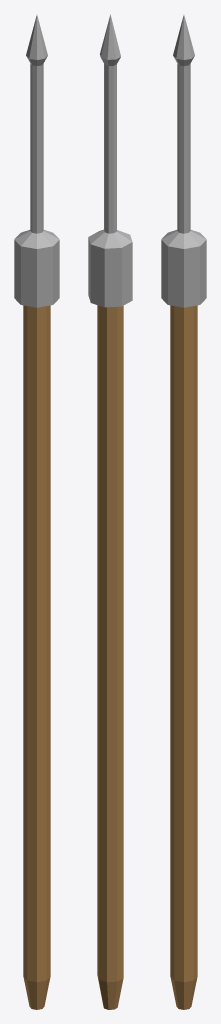
The model's file is Pilum.fbx.
The picture shows the model from 3 angles, left to right: view 1: azimuth 90°, elevation 25°; view 2: azimuth 210°, elevation 25°; view 3: azimuth 270°, elevation 25°; orthographic projection.
Visible parts, largest first — view 1: Javelin; view 2: Javelin; view 3: Javelin.
Boxes of the visible parts, x1,y1,x2,y2 form: Javelin: (14, 15, 59, 1009); Javelin: (88, 14, 132, 1009); Javelin: (161, 15, 206, 1009).
Bounding box in the file's own units: 8.68 × 209 × 8.68.
